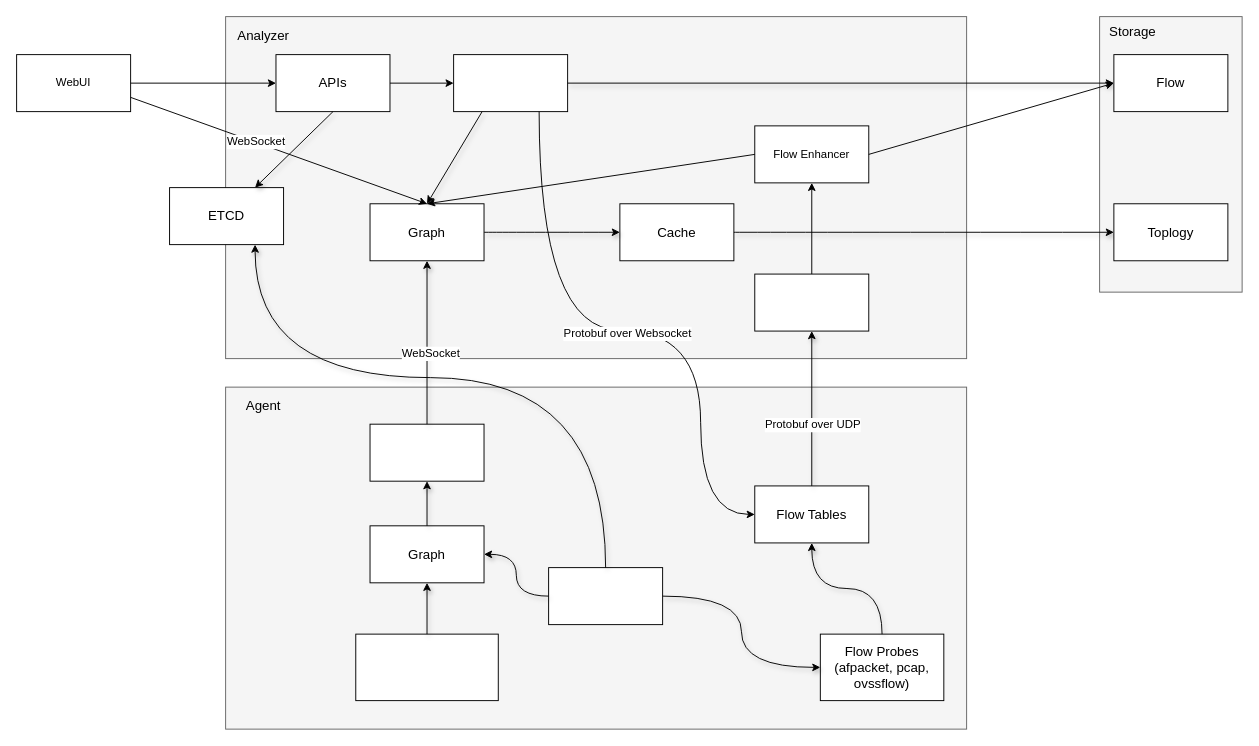
The diagram is 1259 pixels wide and 746 high, and some of its shapes have lost their labels. The shapes that lost their labels are listed below. From the top down, each one's centre as x and y in pixels, then its label:
(x=510, y=83): Gremlin Engine
(x=811, y=302): Flow Table
(x=426, y=452): Forwarder
(x=605, y=596): Ondemand Probes
(x=426, y=667): Topology Probes (netlink, netns, ovsdb, docker, neutron)
